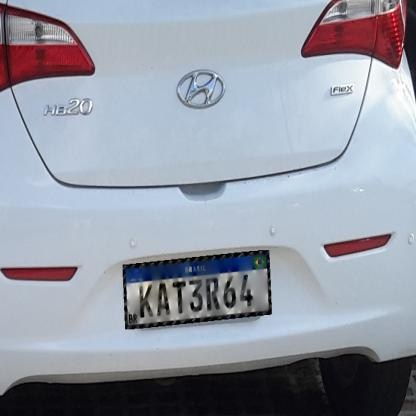PlacaM: (122, 250, 272, 330)
